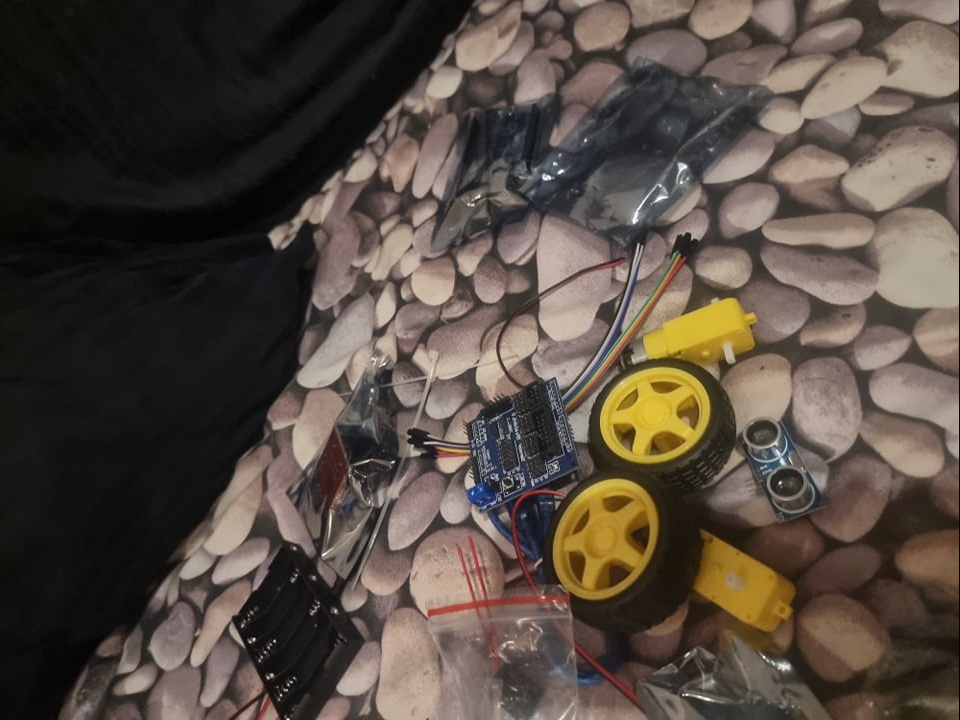5V EXPANSION: (465, 381, 575, 513)
SENSOR: (738, 406, 827, 523)
